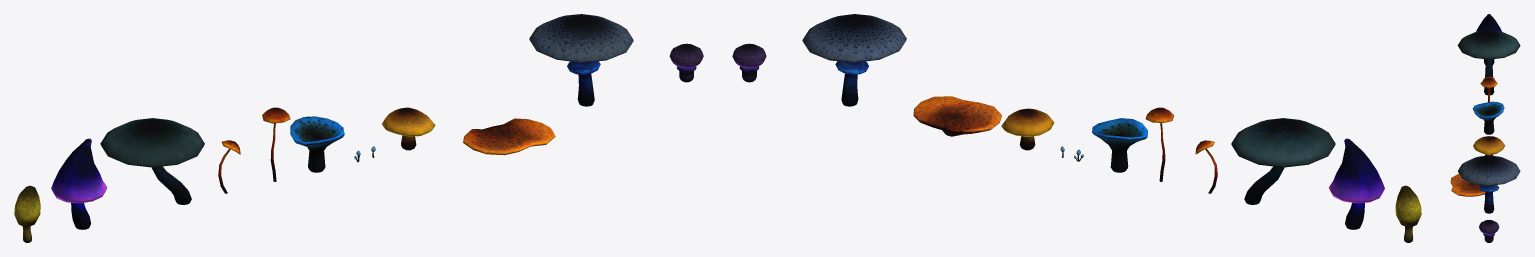
File: GlowingMushrooms.glb
The picture shows the model from 3 angles, left to right: view 1: azimuth 30°, elevation 25°; view 2: azimuth 150°, elevation 25°; view 3: azimuth 270°, elevation 25°; orthographic projection. The views are drawn at different scales.
Visible parts, largest first — view 1: Mushroom_09, Mushroom_03, Mushroom_02, Mushroom_08, Mushroom_06, Mushroom_07, Mushroom_01, Mushroom_10, Mushroom_05; view 2: Mushroom_09, Mushroom_03, Mushroom_02, Mushroom_08, Mushroom_06, Mushroom_07, Mushroom_01, Mushroom_10, Mushroom_05; view 3: Mushroom_09, Mushroom_03, Mushroom_06, Mushroom_08, Mushroom_07, Mushroom_10, Mushroom_02, Mushroom_05.
Part boxes in pixels (x1,y1,x2,y2): Mushroom_09: [529, 14, 633, 106]; Mushroom_03: [100, 118, 204, 204]; Mushroom_02: [51, 138, 107, 229]; Mushroom_08: [463, 118, 555, 155]; Mushroom_06: [290, 116, 344, 172]; Mushroom_07: [382, 107, 435, 150]; Mushroom_01: [14, 185, 40, 242]; Mushroom_10: [669, 43, 703, 82]; Mushroom_05: [262, 107, 290, 181]; Mushroom_09: [802, 14, 906, 106]; Mushroom_03: [1231, 118, 1335, 204]; Mushroom_02: [1329, 138, 1384, 229]; Mushroom_08: [913, 96, 1001, 136]; Mushroom_06: [1092, 118, 1147, 172]; Mushroom_07: [1001, 108, 1054, 150]; Mushroom_01: [1395, 185, 1421, 242]; Mushroom_10: [732, 43, 766, 82]; Mushroom_05: [1145, 107, 1173, 181]; Mushroom_09: [1458, 155, 1520, 213]; Mushroom_03: [1457, 30, 1520, 95]; Mushroom_06: [1472, 101, 1504, 134]; Mushroom_08: [1450, 174, 1485, 196]; Mushroom_07: [1473, 136, 1505, 155]; Mushroom_10: [1479, 220, 1499, 242]; Mushroom_02: [1476, 14, 1501, 64]; Mushroom_05: [1480, 77, 1497, 102].
Bounding box in the file's own units: 27.61 × 3.88 × 4.07.
1 material, 1 textured.
